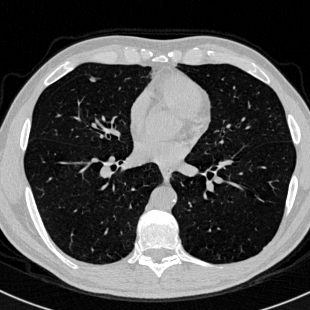nodule: (91, 77, 95, 81)
